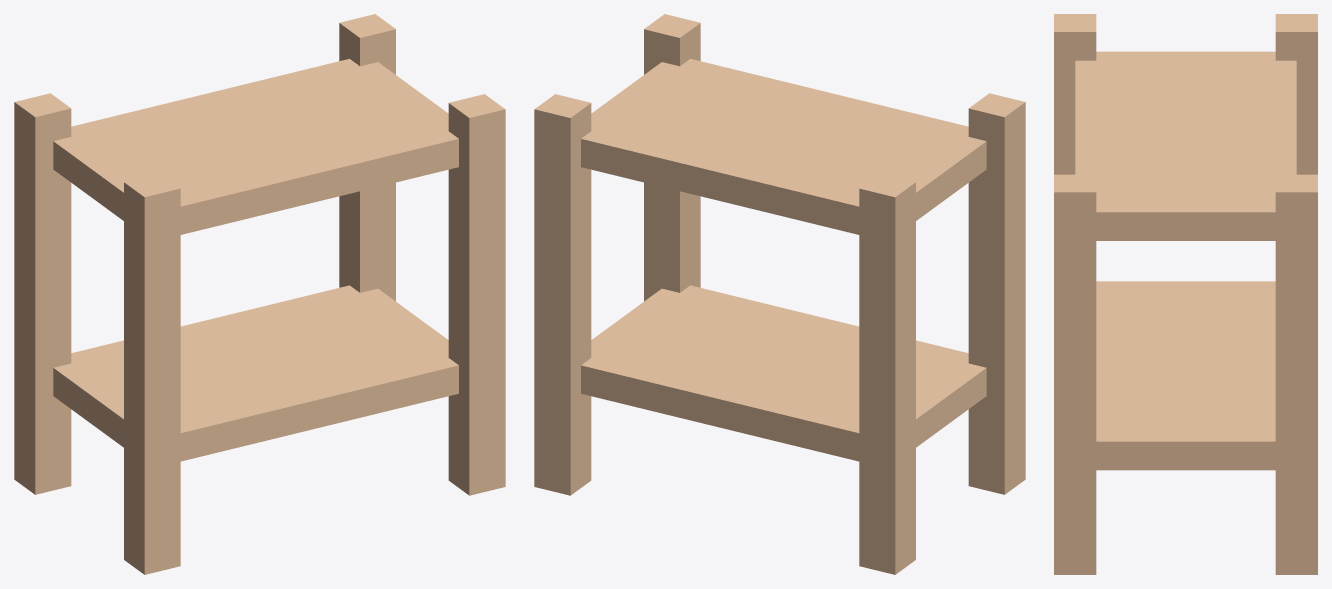
The model's file is bookcaseOpenLow.glb.
3 views of the same model, side by side, from view 1: azimuth 30°, elevation 25°; view 2: azimuth 150°, elevation 25°; view 3: azimuth 270°, elevation 25° (orthographic).
Parts seen in each view (by area): view 1: bookcaseOpenLow(Clone); view 2: bookcaseOpenLow(Clone); view 3: bookcaseOpenLow(Clone).
Part boxes in pixels (x1,y1,x2,y2): bookcaseOpenLow(Clone): [14, 14, 505, 574]; bookcaseOpenLow(Clone): [534, 14, 1025, 574]; bookcaseOpenLow(Clone): [1054, 14, 1317, 574].
Bounding box in the file's own units: 0.812 × 0.812 × 0.5075.
1 material, 1 textured.
